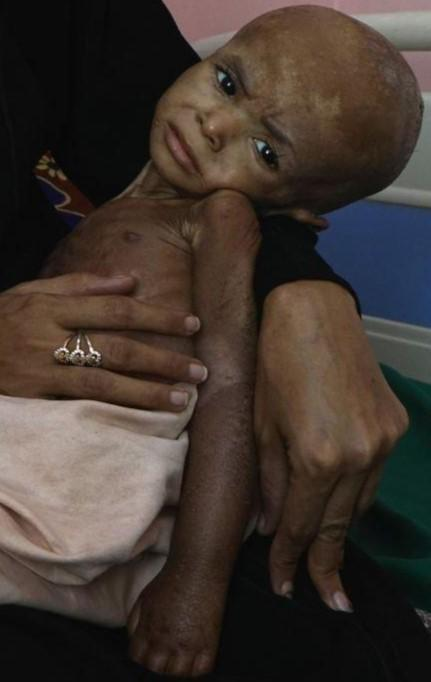Stunting: (150, 0, 431, 288)
